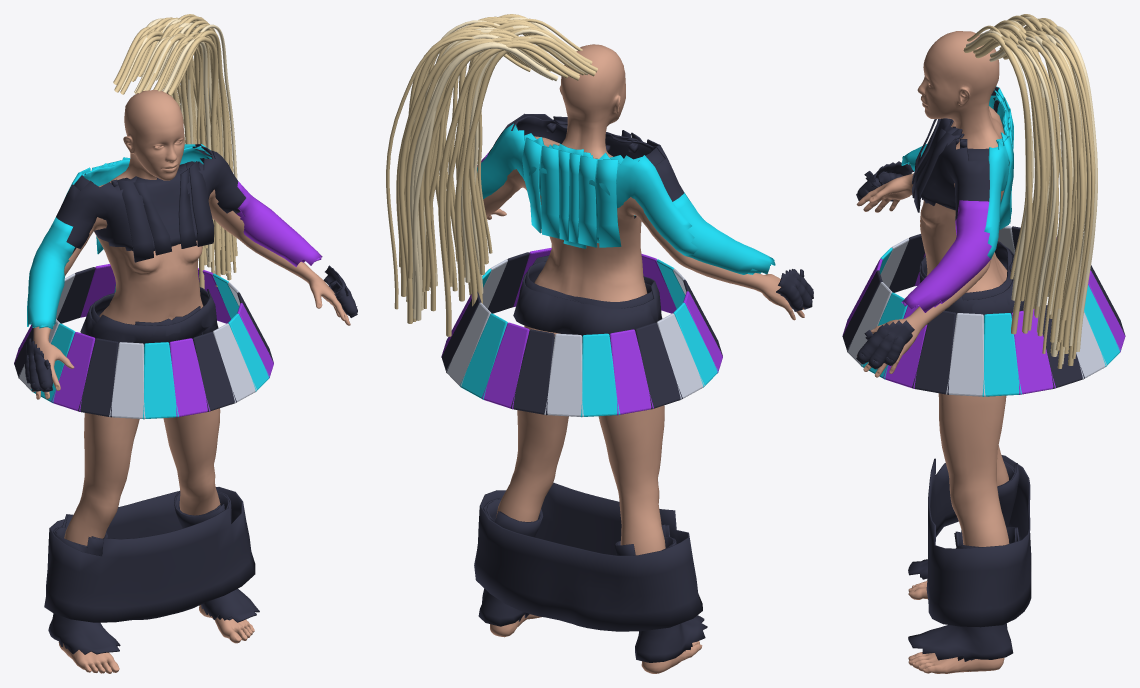
The model's file is Nova_v02_MakeHuman.glb.
3 views of the same model, side by side, from view 1: azimuth 30°, elevation 25°; view 2: azimuth 150°, elevation 25°; view 3: azimuth 270°, elevation 25° (orthographic). The views are drawn at different scales.
Visible parts, largest first — view 1: Nova_MakeHuman_CC0_Body, Boots_lower_leg_black, Nova_Crosscheck_Top, Waist_belt_black, Nova_Cyan_Jacket_LeftSleeve, Nova_Violet_Jacket_RightSleeve, Nova_Skirt_Pleat_16, Nova_Skirt_Pleat_15, Nova_Skirt_Pleat_17, Nova_Skirt_Pleat_14, Nova_Skirt_Pleat_18, Nova_Skirt_Pleat_13 (+19 smaller); view 2: Nova_MakeHuman_CC0_Body, Boots_lower_leg_black, Nova_Cyan_Jacket_Upper, Waist_belt_black, Nova_Crosscheck_Top, Nova_Cyan_Jacket_LeftSleeve, Nova_Skirt_Pleat_07, Nova_Skirt_Pleat_08, Nova_Skirt_Pleat_06, Nova_Skirt_Pleat_09, Nova_Hair_Ponytail_33, Nova_Skirt_Pleat_10 (+28 smaller); view 3: Nova_MakeHuman_CC0_Body, Boots_lower_leg_black, Nova_Crosscheck_Top, Nova_Violet_Jacket_RightSleeve, Nova_Cyan_Jacket_Upper, Nova_Skirt_Pleat_23, Nova_Skirt_Pleat_00, Gloves_black, Nova_Skirt_Pleat_22, Nova_Hair_Ponytail_38, Nova_Skirt_Pleat_01, Waist_belt_black (+34 smaller).
Boxes of the visible parts, left/top/right/bottom form: Nova_MakeHuman_CC0_Body: left=32, top=90, right=350, bottom=673; Boots_lower_leg_black: left=44, top=487, right=259, bottom=654; Nova_Crosscheck_Top: left=56, top=144, right=245, bottom=262; Waist_belt_black: left=80, top=287, right=218, bottom=346; Nova_Cyan_Jacket_LeftSleeve: left=27, top=217, right=74, bottom=328; Nova_Violet_Jacket_RightSleeve: left=236, top=181, right=322, bottom=266; Nova_Skirt_Pleat_16: left=142, top=342, right=178, bottom=419; Nova_Skirt_Pleat_15: left=109, top=342, right=145, bottom=419; Nova_Skirt_Pleat_17: left=169, top=338, right=210, bottom=417; Nova_Skirt_Pleat_14: left=78, top=338, right=118, bottom=417; Nova_Skirt_Pleat_18: left=193, top=332, right=236, bottom=411; Nova_Skirt_Pleat_13: left=51, top=332, right=95, bottom=411; Nova_MakeHuman_CC0_Body: left=483, top=44, right=804, bottom=673; Boots_lower_leg_black: left=474, top=482, right=707, bottom=662; Nova_Cyan_Jacket_Upper: left=477, top=123, right=698, bottom=255; Waist_belt_black: left=513, top=255, right=662, bottom=336; Nova_Crosscheck_Top: left=488, top=113, right=683, bottom=218; Nova_Cyan_Jacket_LeftSleeve: left=673, top=192, right=775, bottom=274; Nova_Skirt_Pleat_07: left=544, top=333, right=583, bottom=416; Nova_Skirt_Pleat_08: left=580, top=333, right=620, bottom=417; Nova_Skirt_Pleat_06: left=510, top=329, right=554, bottom=415; Nova_Skirt_Pleat_09: left=610, top=329, right=653, bottom=415; Nova_Hair_Ponytail_33: left=438, top=43, right=579, bottom=336; Nova_Skirt_Pleat_10: left=635, top=322, right=682, bottom=409; Nova_MakeHuman_CC0_Body: left=856, top=31, right=1009, bottom=673; Boots_lower_leg_black: left=908, top=455, right=1031, bottom=661; Nova_Crosscheck_Top: left=912, top=87, right=999, bottom=220; Nova_Violet_Jacket_RightSleeve: left=901, top=200, right=991, bottom=312; Nova_Cyan_Jacket_Upper: left=984, top=86, right=1013, bottom=258; Nova_Skirt_Pleat_23: left=946, top=313, right=985, bottom=396; Nova_Skirt_Pleat_00: left=982, top=313, right=1021, bottom=396; Gloves_black: left=856, top=161, right=914, bottom=369; Nova_Skirt_Pleat_22: left=912, top=310, right=956, bottom=394; Nova_Hair_Ponytail_38: left=963, top=32, right=1032, bottom=334; Nova_Skirt_Pleat_01: left=1011, top=309, right=1055, bottom=394; Waist_belt_black: left=919, top=241, right=1024, bottom=317.
Size of the model in its own units: 1.04 by 1.76 by 0.7201.
